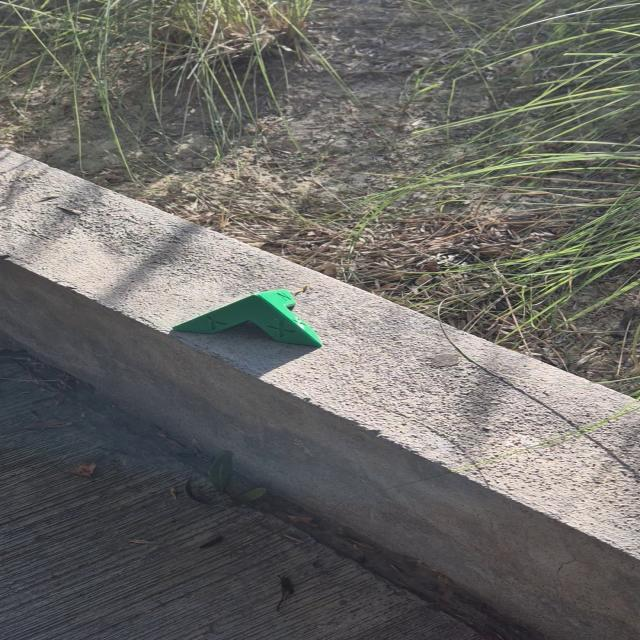eje: (170, 288, 324, 349)
